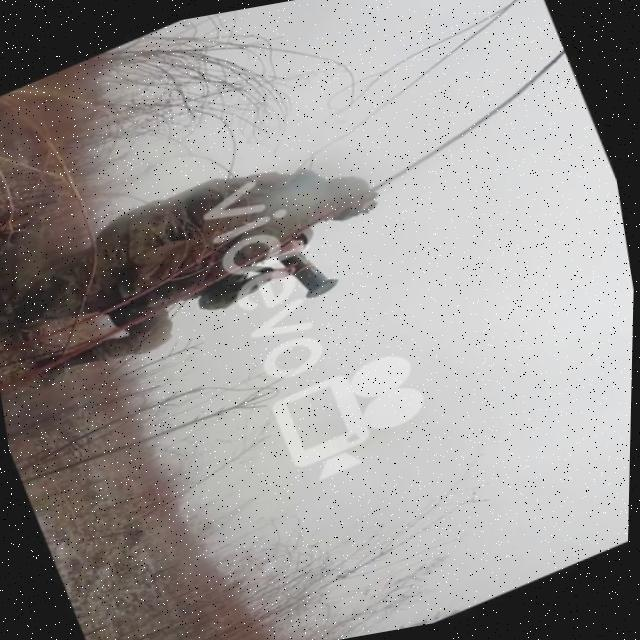rocket: (266, 229, 343, 309)
